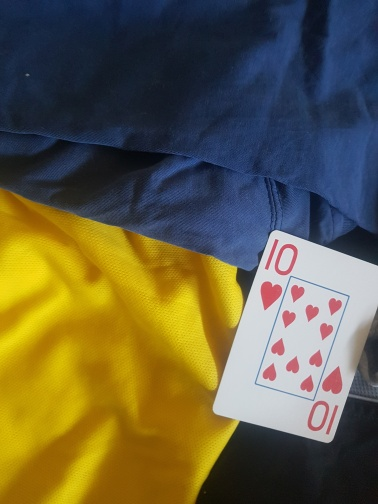ten: (214, 229, 378, 444)
